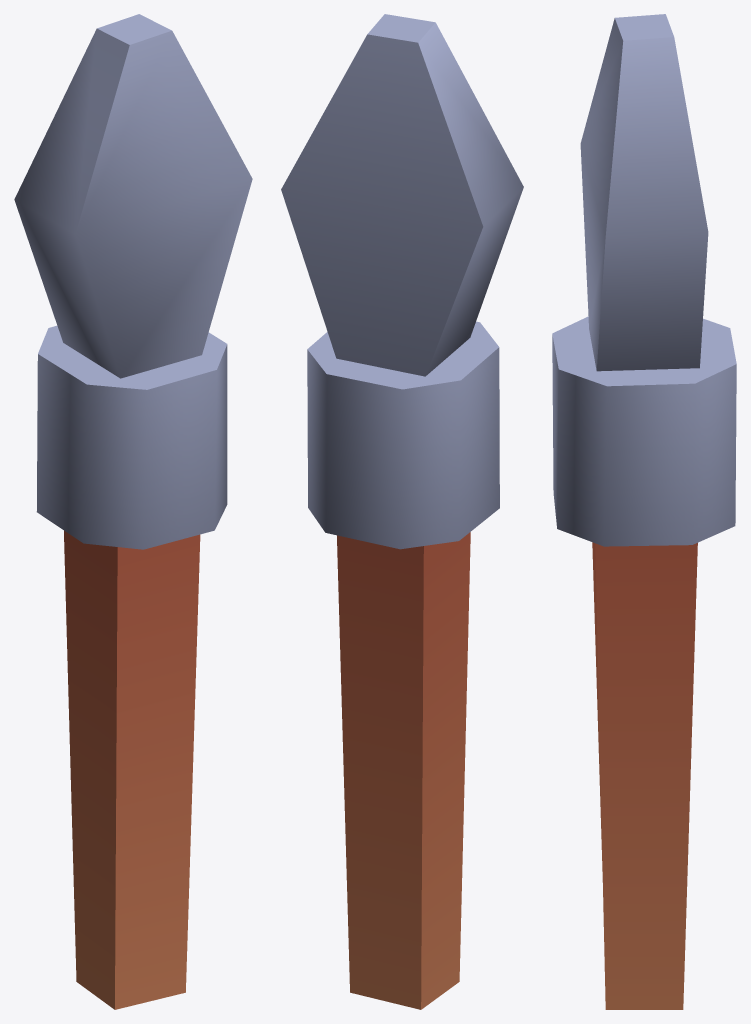
The model's file is armory-lanceman-3.glb.
The picture shows the model from 3 angles, left to right: view 1: azimuth 30°, elevation 25°; view 2: azimuth 150°, elevation 25°; view 3: azimuth 270°, elevation 25°; orthographic projection.
Visible parts, largest first — view 1: weapon-spear; view 2: weapon-spear; view 3: weapon-spear.
Part boxes in pixels (bbox=[...]): weapon-spear: bbox=[14, 14, 252, 1009]; weapon-spear: bbox=[281, 14, 523, 1009]; weapon-spear: bbox=[552, 14, 736, 1009].
Size of the model in its own units: 0.1571 by 0.7184 by 0.1242.
1 material, 1 textured.
